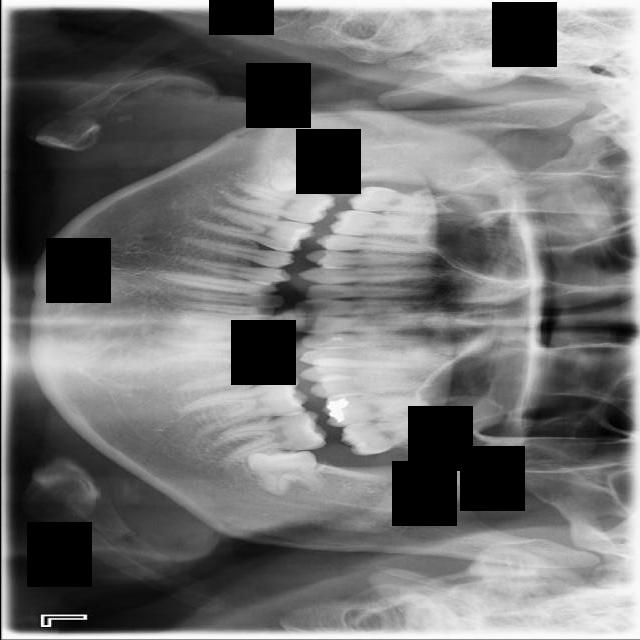52: (319, 392, 373, 427)
73: (72, 589, 78, 592)
BioHorizons Implant: (339, 413, 442, 458)
Biomet 3i Implant: (245, 446, 324, 497)
Blue Sky Bio Implant: (207, 407, 329, 462)
Caries: (345, 185, 451, 214)
Implant: (214, 177, 336, 228)
Keystone Dental Implant: (267, 152, 337, 197)
